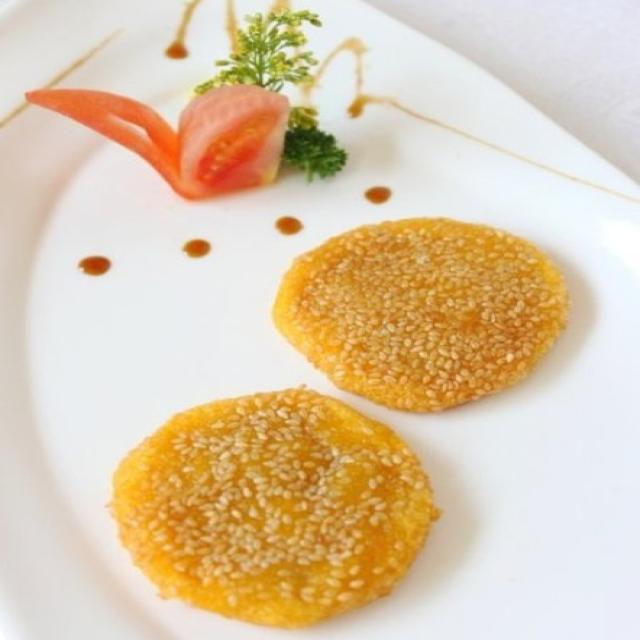炸货点心: (9, 16, 636, 634)
蛋糕甜品: (9, 16, 636, 634)
